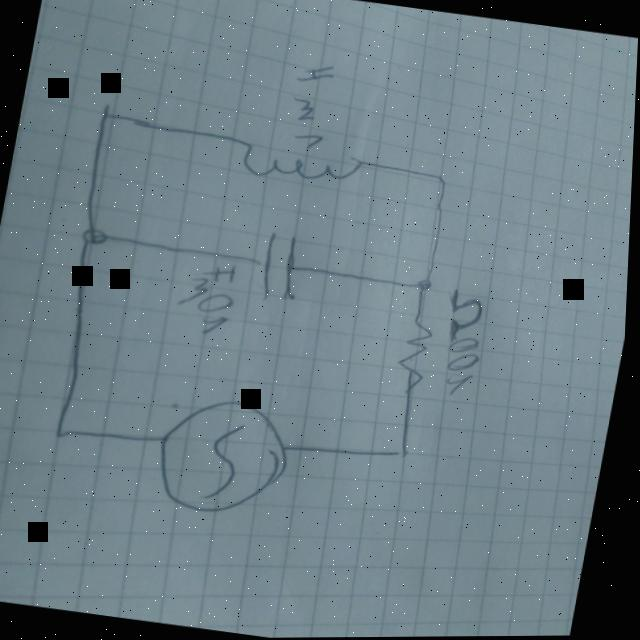capacitor: (252, 227, 311, 307)
inductor: (232, 135, 373, 194)
junction: (76, 222, 114, 250), (95, 103, 127, 128), (48, 420, 80, 445), (410, 273, 441, 298), (430, 168, 459, 191), (394, 441, 419, 463)
resistor: (391, 312, 443, 398)
source: (150, 388, 306, 526)
text: (433, 286, 496, 402), (282, 59, 341, 154), (176, 260, 246, 340)
